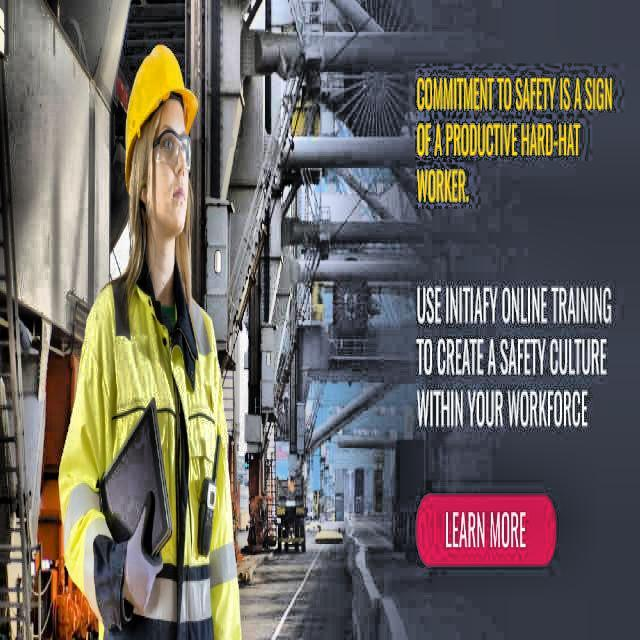person: (58, 40, 242, 640)
